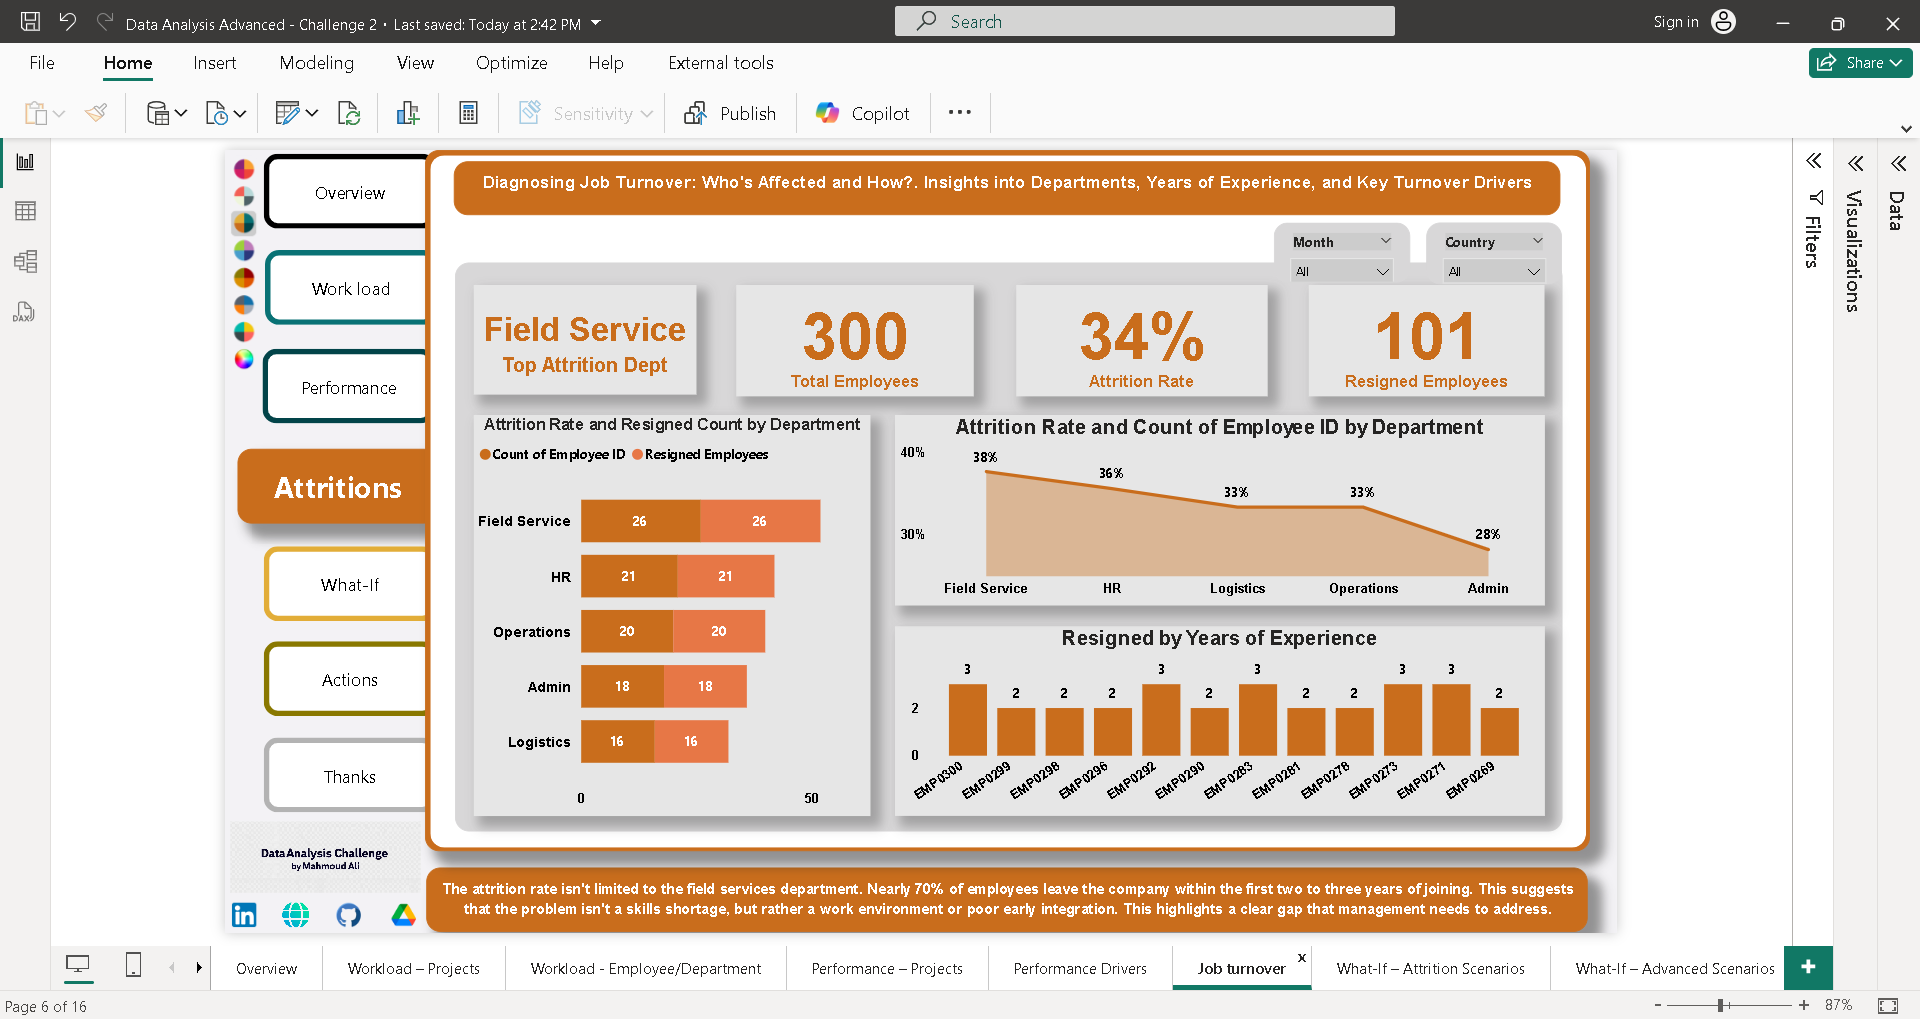

What the dashboard file says about the page in this screenshot:
{"tool":"powerbi","page":{"name":"Job turnover ","canvas":[1280,720],"ordinal":5},"visuals":[{"type":"ChicletSlicer1448559807354","fields":{"Category":["Sheet1.Color Scheme"],"Image":["Sheet1.URL"]},"box":[0,0,35,243.8],"z":0},{"type":"card","fields":{"Values":["Min(Color Scheme.Suggestion)"]},"box":[955,0,291.2,49.1],"z":1000},{"type":"image","box":[47.5,687.5,36.2,32.5],"z":2000},{"type":"image","box":[0,687.5,35,32.5],"z":3000},{"type":"image","box":[90,687.5,48.8,32.5],"z":4000},{"type":"image","box":[146.2,687.5,37.5,32.5],"z":5000},{"type":"image","box":[0,612.5,185,75],"z":6000},{"type":"textbox","box":[185.6,660.3,1068.1,59.3],"z":7000},{"type":"actionButton","title":"Button","box":[11.2,275,183.8,68.8],"z":8000},{"type":"actionButton","title":"Button","box":[35.6,364.4,158.9,68.9],"z":9000},{"type":"actionButton","box":[35,182.5,158.8,68.8],"z":10000},{"type":"actionButton","title":"Button","box":[35.6,3.3,158.9,68.9],"z":11000},{"type":"actionButton","title":"Button","box":[35.6,452.2,158.9,68.9],"z":12000},{"type":"actionButton","title":"Button","box":[35.6,540,158.9,68.9],"z":13000},{"type":"actionButton","title":"Button","box":[36.7,92.2,158.9,68.9],"z":14000},{"type":"actionButton","box":[183.8,0,1071.2,645],"z":15000},{"type":"basicShape","box":[211.1,103.8,1018.2,523.6],"z":16000},{"type":"card","fields":{"Values":["Measures Table.Total Employees"]},"box":[469.7,123.7,218.4,102.3],"z":17000},{"type":"card","fields":{"Values":["Measures Table.Attrition Rate"]},"box":[727.2,123.7,231.1,102.3],"z":18000},{"type":"card","fields":{"Values":["Measures Table.Top Attrition Dept"]},"box":[228.5,123.7,204.5,101],"z":19000},{"type":"card","fields":{"Values":["Measures Table.Resigned Employees"]},"box":[996.2,123.7,217.2,102.3],"z":20000},{"type":"columnChart","title":"Resigned by Years of Experience","fields":{"Category":["Advanced_Employees.Employee ID"],"Series":["Advanced_Employees.Status"],"Y":["Sum(Advanced_Employees.Years of experience)"]},"box":[616.1,438.1,597.2,174.2],"z":21000},{"type":"slicer","fields":{"Values":["Advanced_Employees.Country"]},"box":[1104.8,66.9,125,56.8],"z":22000},{"type":"textbox","box":[210.9,10.1,1017.6,49.2],"z":23000},{"type":"barChart","title":"Attrition Rate and Resigned Count by Department","fields":{"Category":["Advanced_Employees.Department"],"Y":["CountNonNull(Advanced_Employees.Employee ID)","Measures Table.Resigned Employees"]},"box":[228.5,243.7,364.9,368.7],"z":24000},{"type":"areaChart","fields":{"Category":["Advanced_Employees.Department"],"Y":["Measures Table.Attrition Rate"]},"box":[616.1,243.7,597.2,175.5],"z":25000},{"type":"slicer","fields":{"Values":["Advanced_Employees.Date of Joining.Variation.Date Hierarchy.Month"]},"box":[964.4,66.7,125.6,55.6],"z":26000}]}

Visuals, with their boxes on the page's 1280x720 design canvas (x1, y1, x2, y2). These are canvas units, not pixel positions in the 1920x1019 screenshot, which may show the page scaled, cropped or inside an application window:
ChicletSlicer1448559807354 - Sheet1.Color Scheme x Sheet1.URL: crop(0, 0, 35, 244)
card - Min(Color Scheme.Suggestion): crop(955, 0, 1246, 49)
image: crop(48, 688, 84, 720)
image: crop(0, 688, 35, 720)
image: crop(90, 688, 139, 720)
image: crop(146, 688, 184, 720)
image: crop(0, 612, 185, 688)
textbox: crop(186, 660, 1254, 720)
"Button" actionButton: crop(11, 275, 195, 344)
"Button" actionButton: crop(36, 364, 194, 433)
actionButton: crop(35, 182, 194, 251)
"Button" actionButton: crop(36, 3, 194, 72)
"Button" actionButton: crop(36, 452, 194, 521)
"Button" actionButton: crop(36, 540, 194, 609)
"Button" actionButton: crop(37, 92, 196, 161)
actionButton: crop(184, 0, 1255, 645)
basicShape: crop(211, 104, 1229, 627)
card - Measures Table.Total Employees: crop(470, 124, 688, 226)
card - Measures Table.Attrition Rate: crop(727, 124, 958, 226)
card - Measures Table.Top Attrition Dept: crop(228, 124, 433, 225)
card - Measures Table.Resigned Employees: crop(996, 124, 1213, 226)
"Resigned by Years of Experience" columnChart: crop(616, 438, 1213, 612)
slicer - Advanced_Employees.Country: crop(1105, 67, 1230, 124)
textbox: crop(211, 10, 1228, 59)
"Attrition Rate and Resigned Count by Department" barChart: crop(228, 244, 593, 612)
areaChart - Advanced_Employees.Department x Measures Table.Attrition Rate: crop(616, 244, 1213, 419)
slicer - Advanced_Employees.Date of Joining.Variation.Date Hierarchy.Month: crop(964, 67, 1090, 122)
